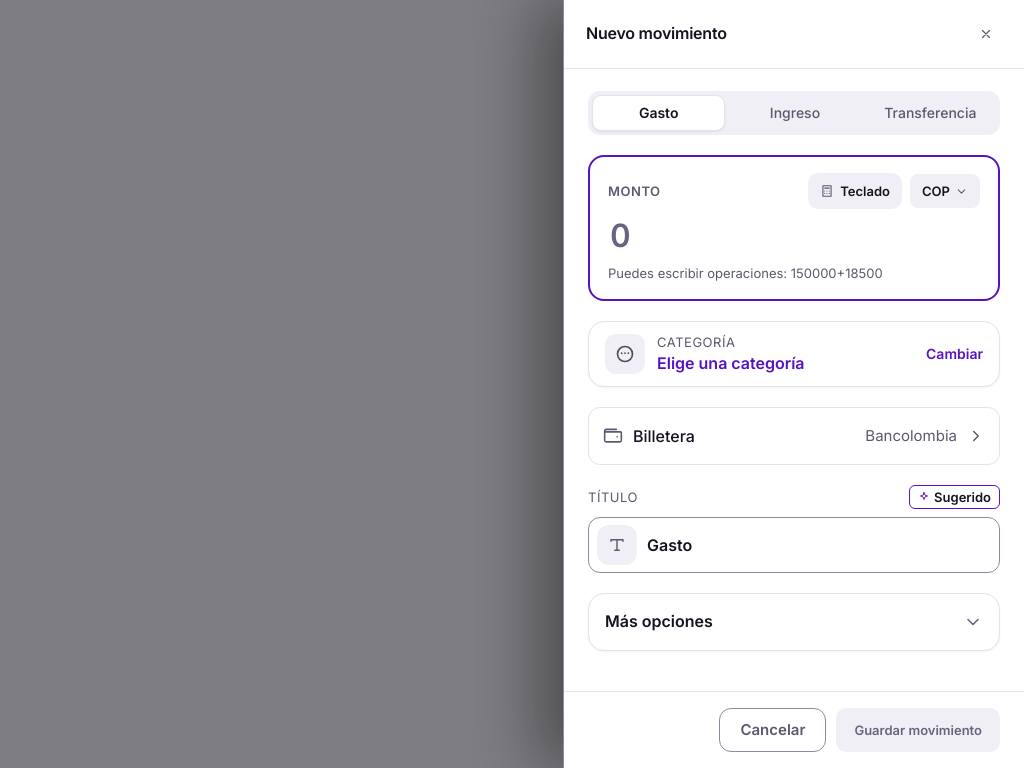
Test: NewTransactionPanel › picks the goal a movement counts toward from a radio list
Expected: the button "Billetera Bancolombia" is shown, [589,408,999,464]
Click the button "Más opciones" at coordinates (659, 621), box [589,594,999,650]
(page scrolled)
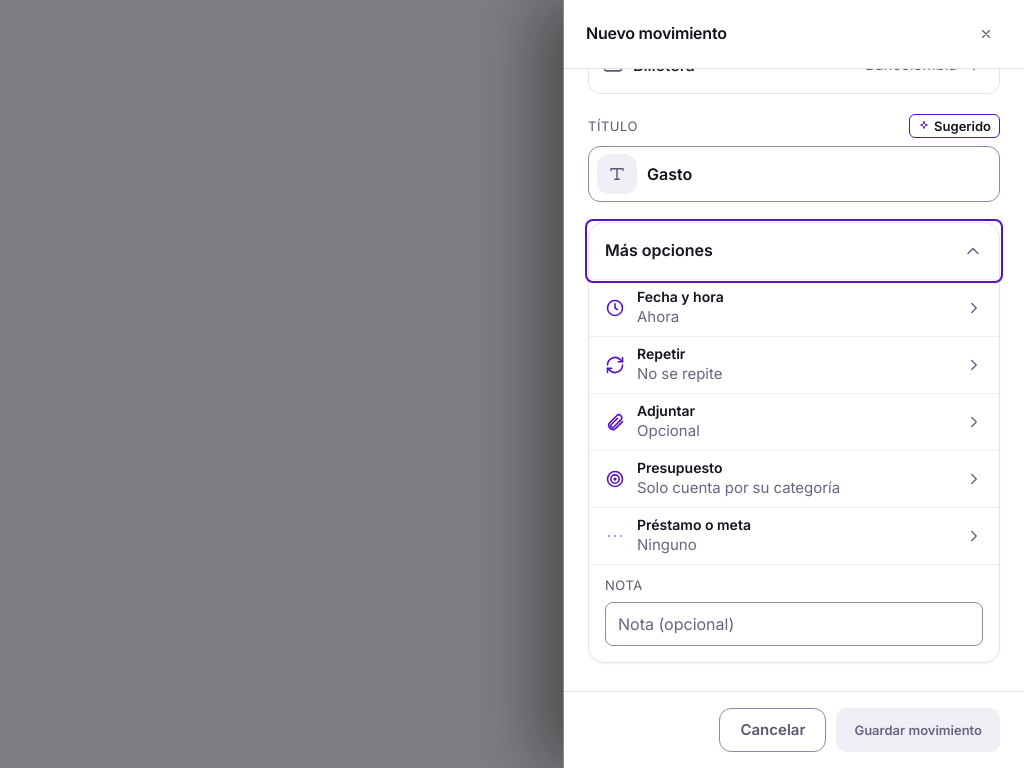
Click the button "Préstamo o meta Ninguno" at coordinates (694, 525), box [589,508,999,564]
(page scrolled)
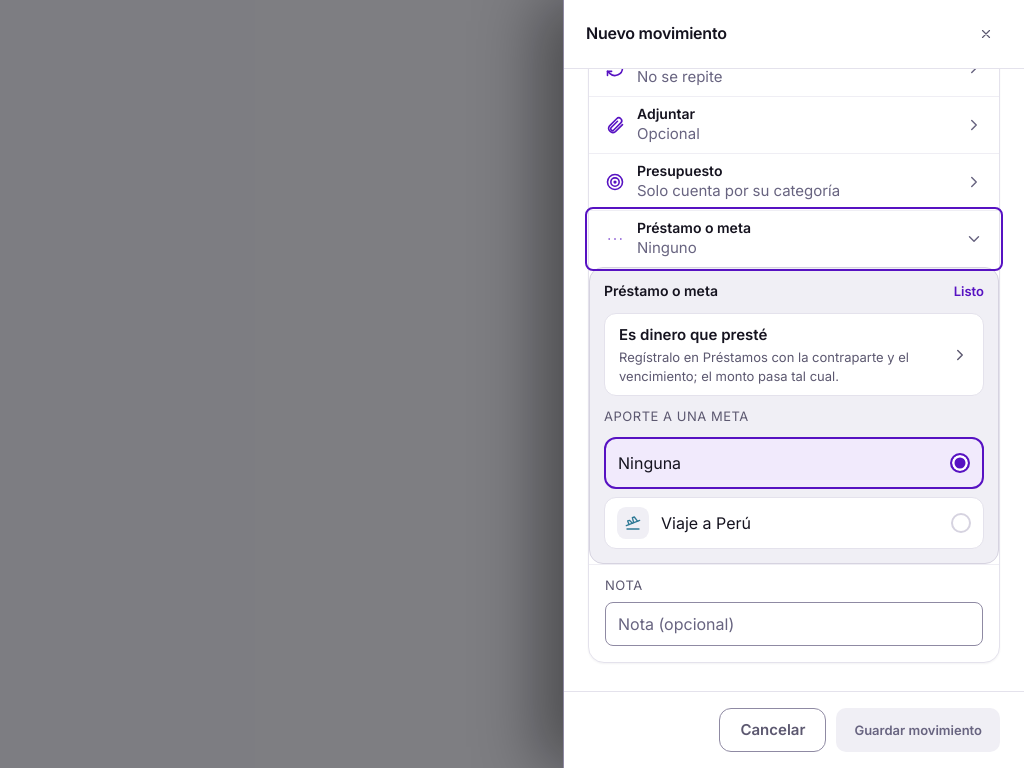
Result: the radio button labelled "Ninguna" is checked at [604,437,984,489]
Click the radio button labelled "Viaje a Perú" at coordinates (633, 523), box [604,497,984,549]
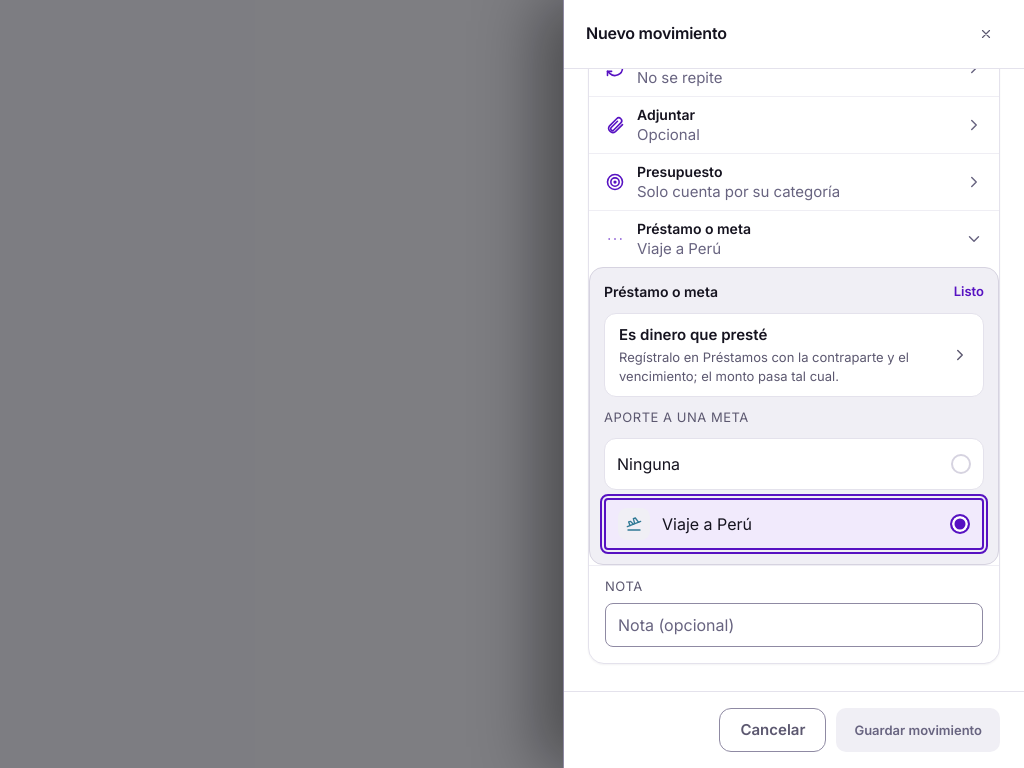
Result: the radio button labelled "Viaje a Perú" is checked at [604,498,984,550]
Result: the radio button labelled "Ninguna" is not checked at [604,438,984,490]
